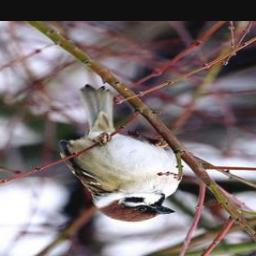Sparrow: (56, 86, 184, 223)
